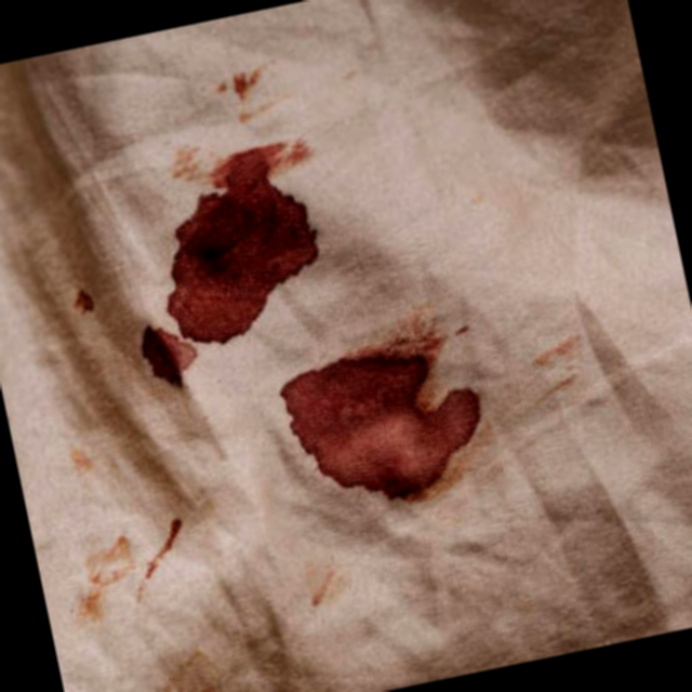blood: (101, 137, 347, 383), (276, 337, 488, 510)
